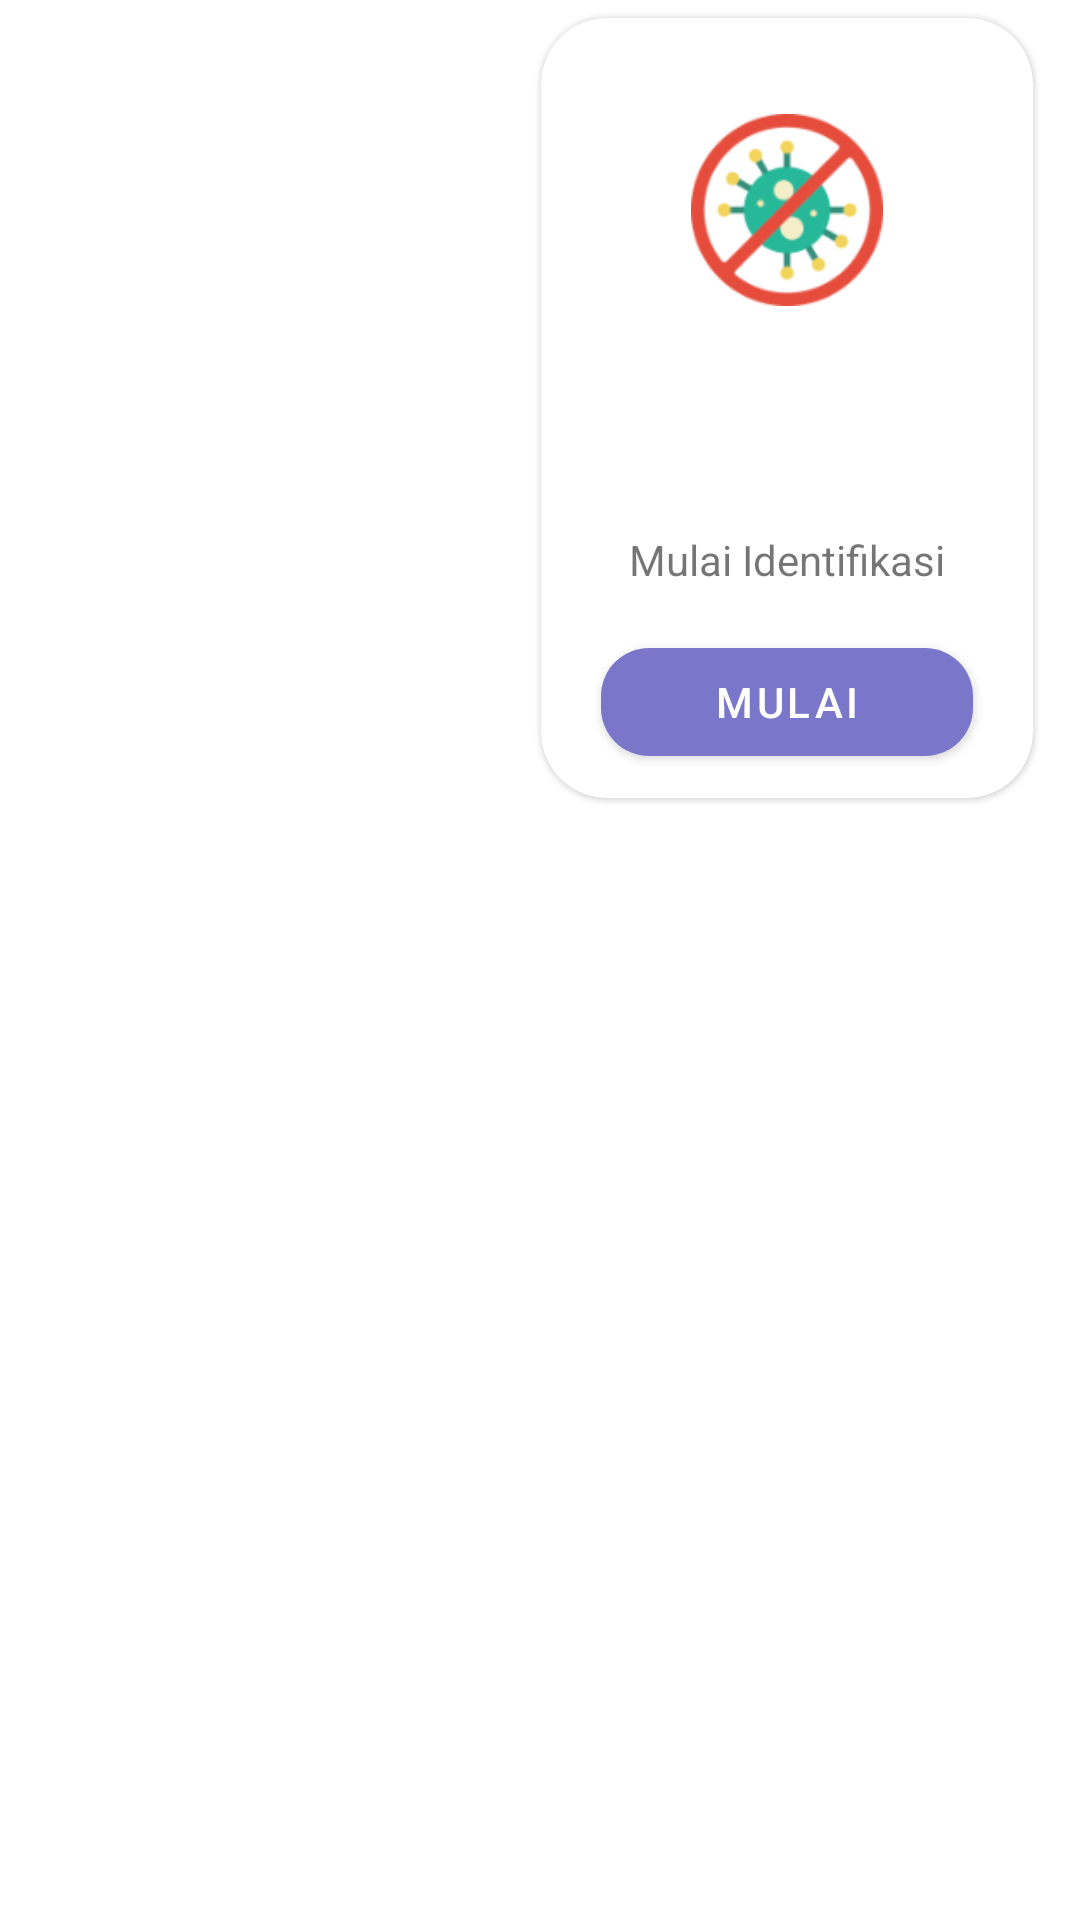

Screen size 1080px×1920px. Icon name, then its center in pixels as (x,y):
no covid: (787,210)
